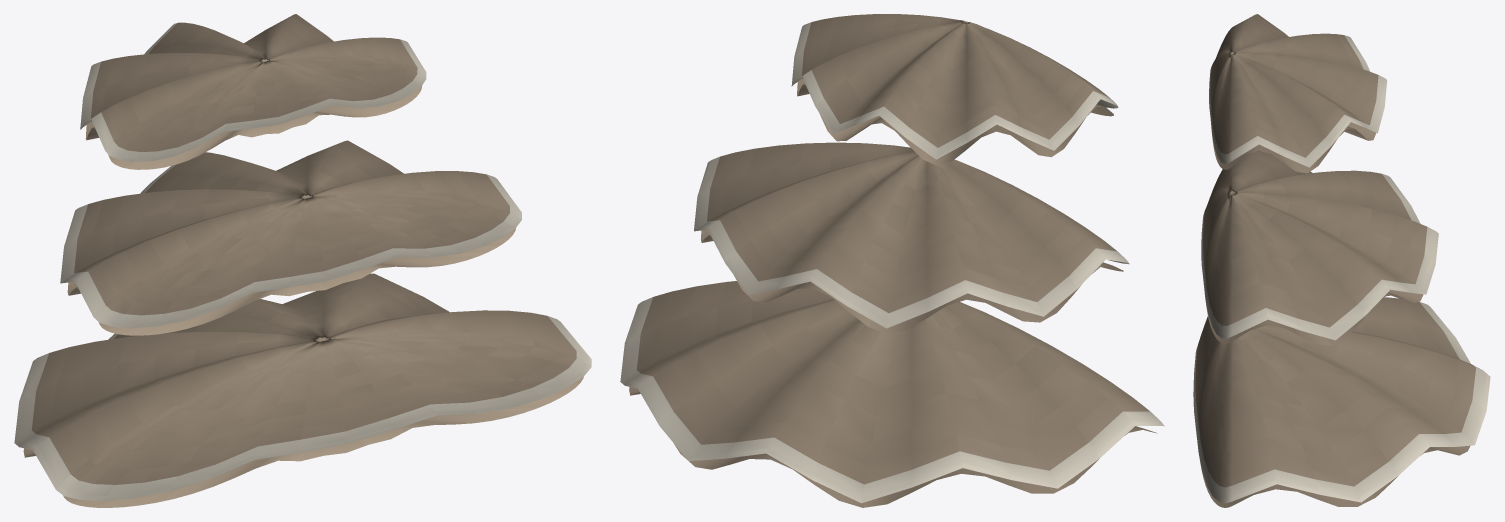
The model's file is mush_bracket.glb.
3 views of the same model, side by side, from view 1: azimuth 30°, elevation 25°; view 2: azimuth 150°, elevation 25°; view 3: azimuth 270°, elevation 25° (orthographic). The views are drawn at different scales.
Parts seen in each view (by area): view 1: mush_bracket; view 2: mush_bracket; view 3: mush_bracket.
Boxes of the visible parts, x1,y1,x2,y2 form: mush_bracket: [14, 14, 591, 507]; mush_bracket: [620, 14, 1164, 507]; mush_bracket: [1193, 14, 1490, 507].
Size of the model in its own units: 0.12 by 0.0868 by 0.069.
